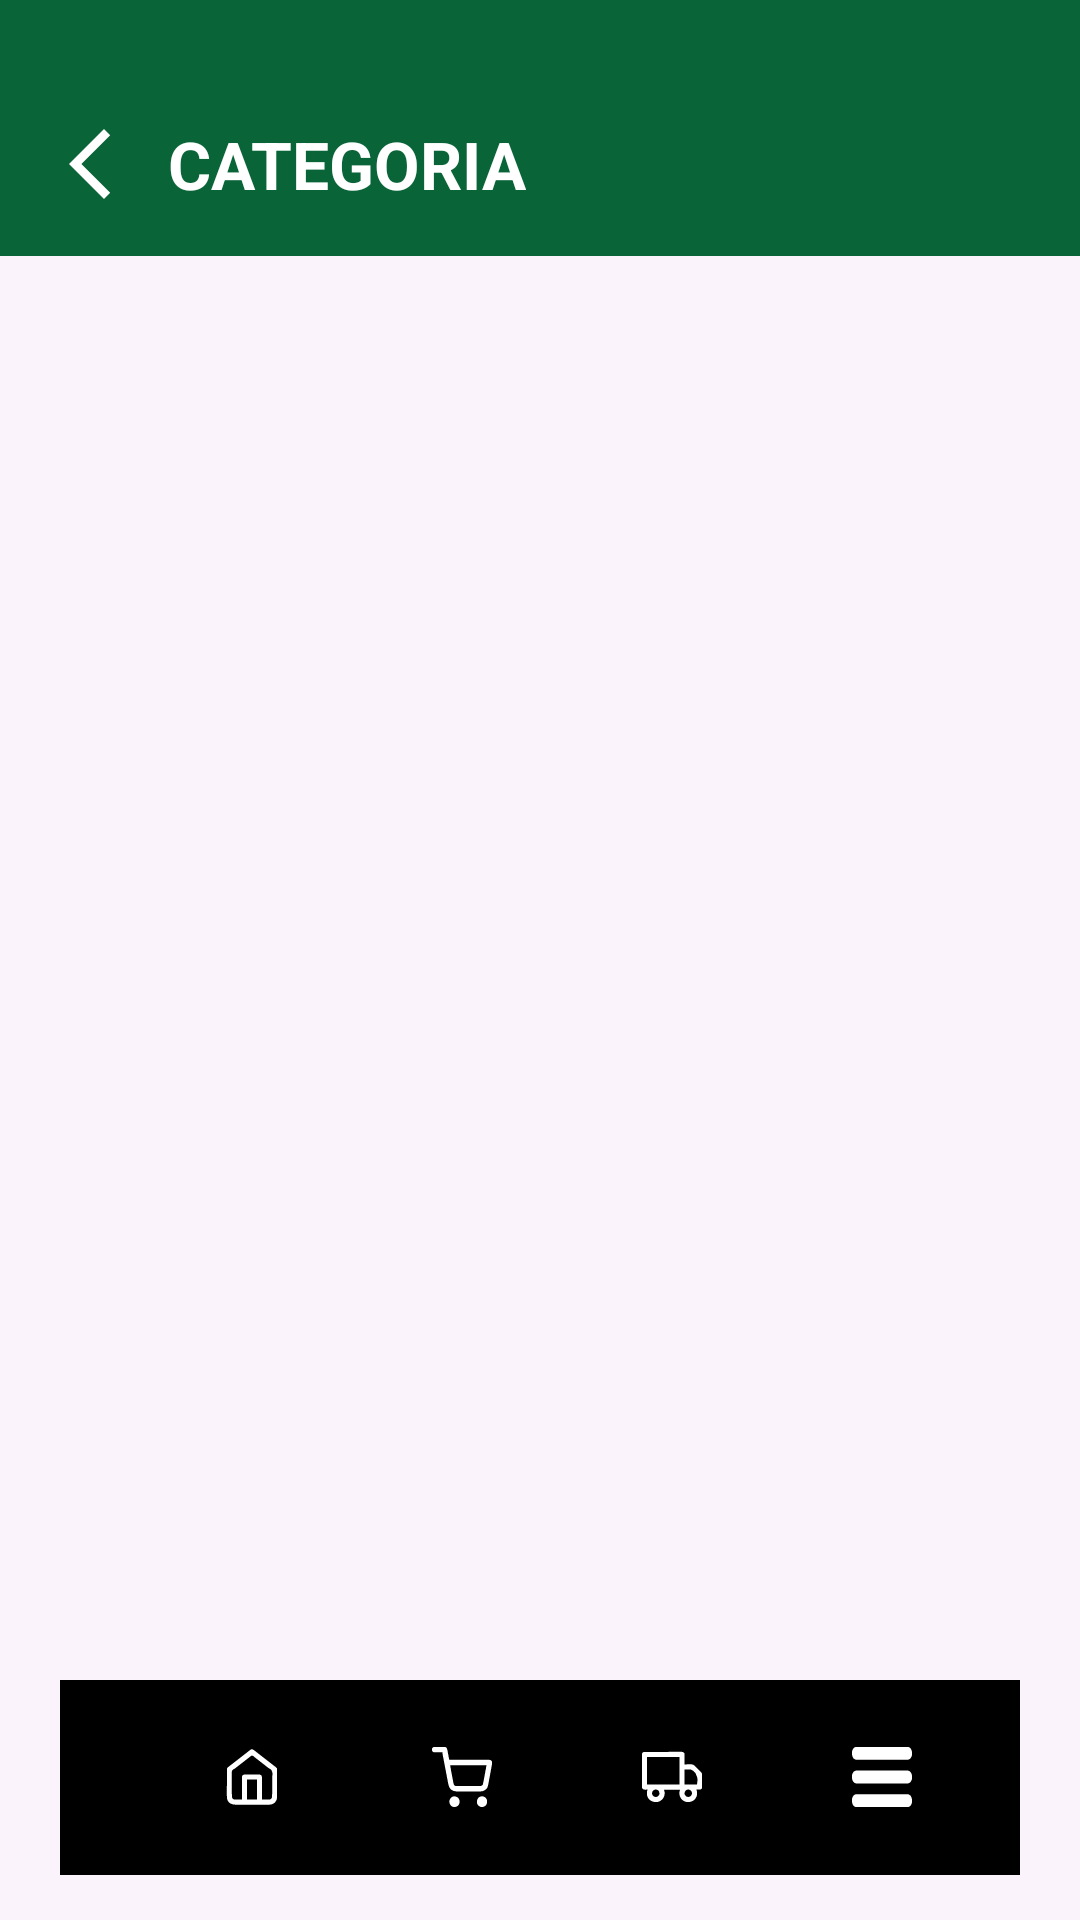

Where to tap for icons on this 1080×1920 app screen, as (x=x, y=y):
Carrinho: (x=462, y=1777)
Entrega: (x=672, y=1776)
Home: (x=251, y=1777)
Menu: (x=882, y=1777)
Voltar: (x=89, y=164)
